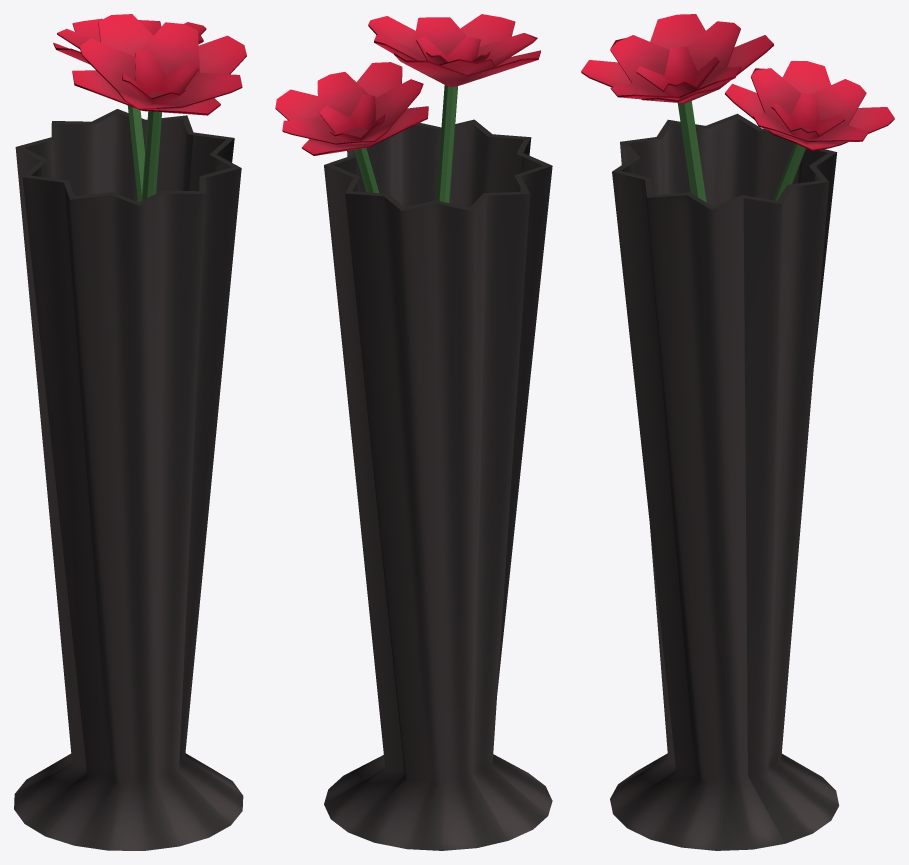
The model's file is vase.fbx.
The picture shows the model from 3 angles, left to right: view 1: azimuth 30°, elevation 25°; view 2: azimuth 150°, elevation 25°; view 3: azimuth 270°, elevation 25°; orthographic projection.
Visible parts, largest first — view 1: vase, pPlane1 (×2), pPlane2 (×2), pPlane3, pCylinder1 (×2); view 2: vase, pPlane1 (×2), pPlane2 (×2), pPlane3 (×2), pCylinder1 (×2); view 3: vase, pPlane1 (×2), pPlane2 (×2), pPlane3 (×2), pCylinder1 (×2).
Part boxes in pixels (x1,y1,x2,y2): vase: (14,109,243,850); pPlane1 (×2): (57,20,242,108); pPlane2 (×2): (53,14,246,115); pPlane3: (122,49,198,104); pCylinder1 (×2): (127,105,161,201); vase: (324,119,552,850); pPlane1 (×2): (282,17,537,144); pPlane2 (×2): (275,14,540,155); pPlane3 (×2): (320,36,490,141); pCylinder1 (×2): (354,85,457,203); vase: (610,113,839,850); pPlane1 (×2): (610,21,868,142); pPlane2 (×2): (581,14,894,151); pPlane3 (×2): (636,46,844,139); pCylinder1 (×2): (677,101,805,202).
Size of the model in its own units: 8.84 by 29.61 by 11.04.
